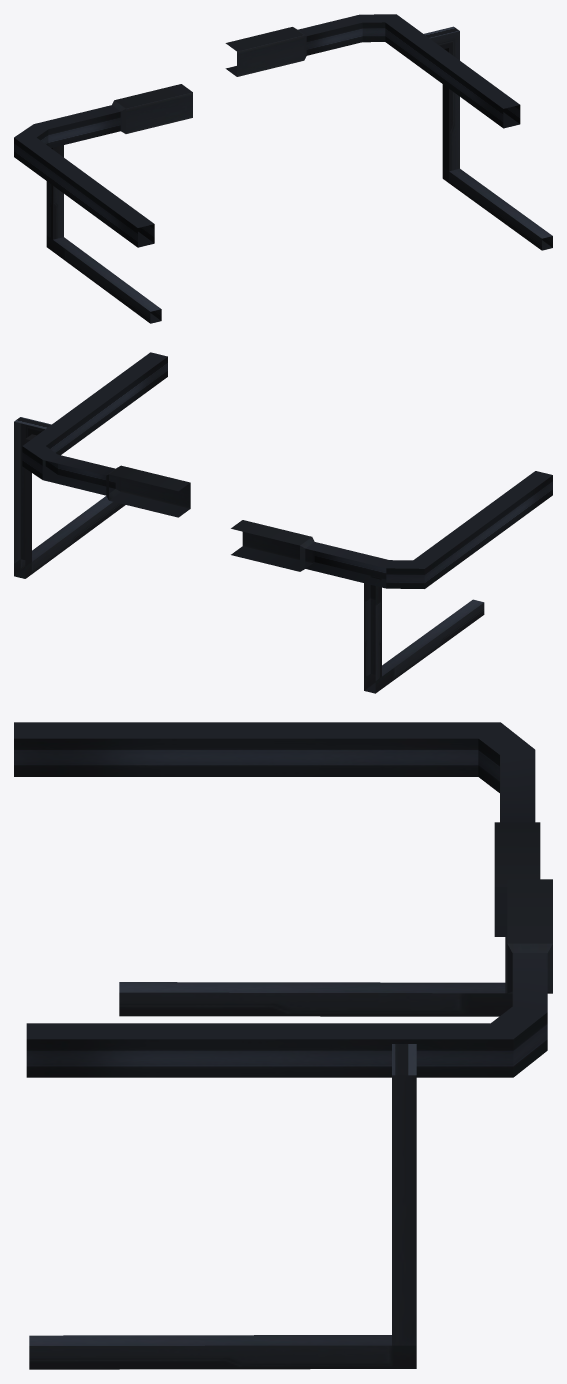
The model's file is ts_jjgg001.FBX.
The picture shows the model from 3 angles, top to bottom: view 1: azimuth 30°, elevation 25°; view 2: azimuth 150°, elevation 25°; view 3: azimuth 270°, elevation 25°; orthographic projection. The views are drawn at different scales.
Visible parts, largest first — view 1: ts_jjgg001; view 2: ts_jjgg001; view 3: ts_jjgg001.
Boxes of the visible parts, x1=… form: ts_jjgg001: x1=14, y1=14, x2=552, y2=323; ts_jjgg001: x1=14, y1=352, x2=552, y2=693; ts_jjgg001: x1=14, y1=722, x2=552, y2=1369.
Bounding box in the file's own units: 3.75 × 1.32 × 2.13.
